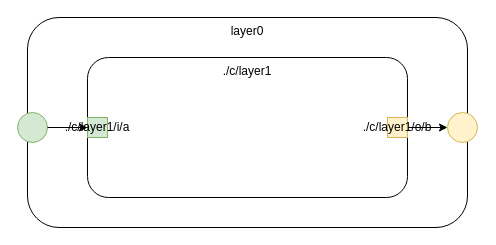
This 496x245 diagram has some shape labels left out. Each missing label, with the centre of its shape:
./i/in: (32,127)
./o/out: (462,127)
